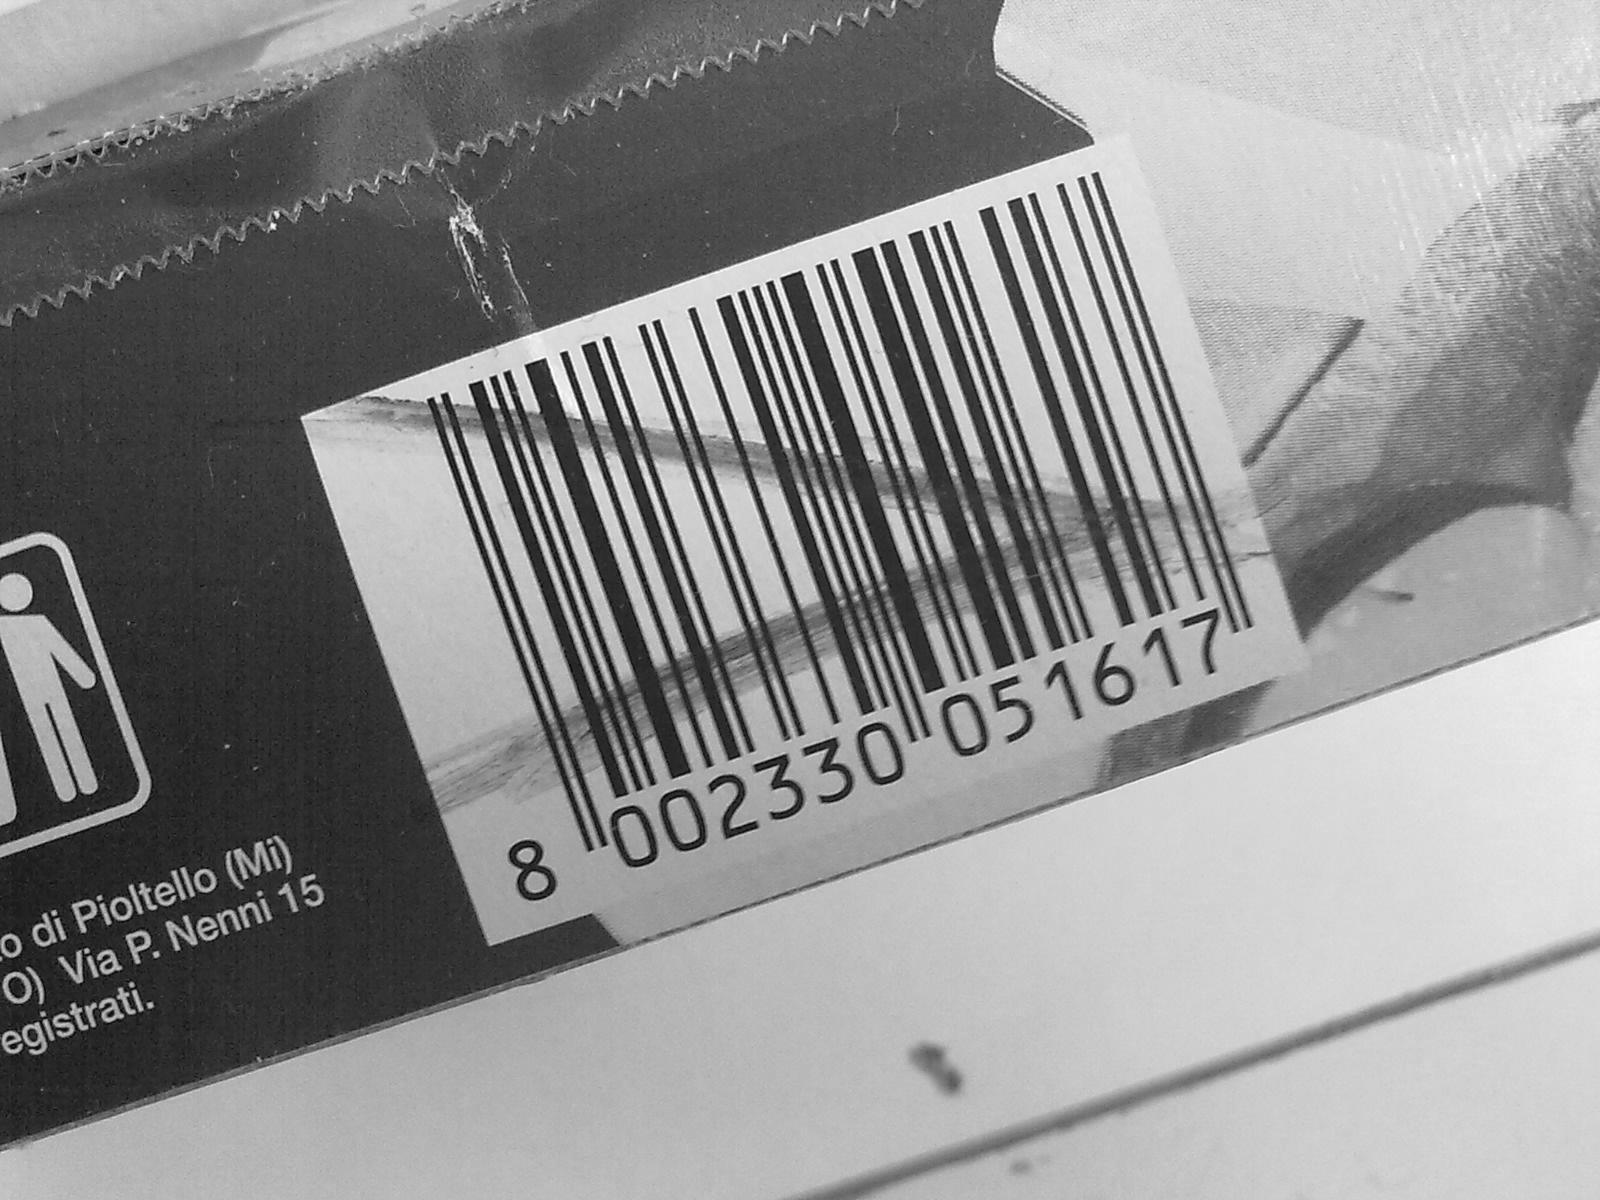Barcode: (445, 156, 1226, 845)
